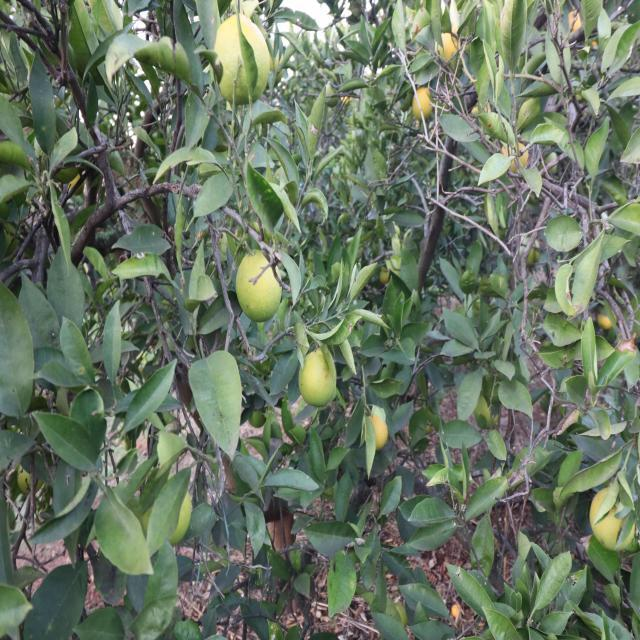Jeruk Belum Matang: (208, 12, 270, 106), (134, 468, 192, 554), (234, 246, 286, 325), (296, 341, 340, 406)
Jeruk Sudah Matang: (591, 488, 640, 550), (500, 139, 532, 181), (362, 413, 392, 453), (412, 86, 437, 122), (436, 31, 462, 62)
